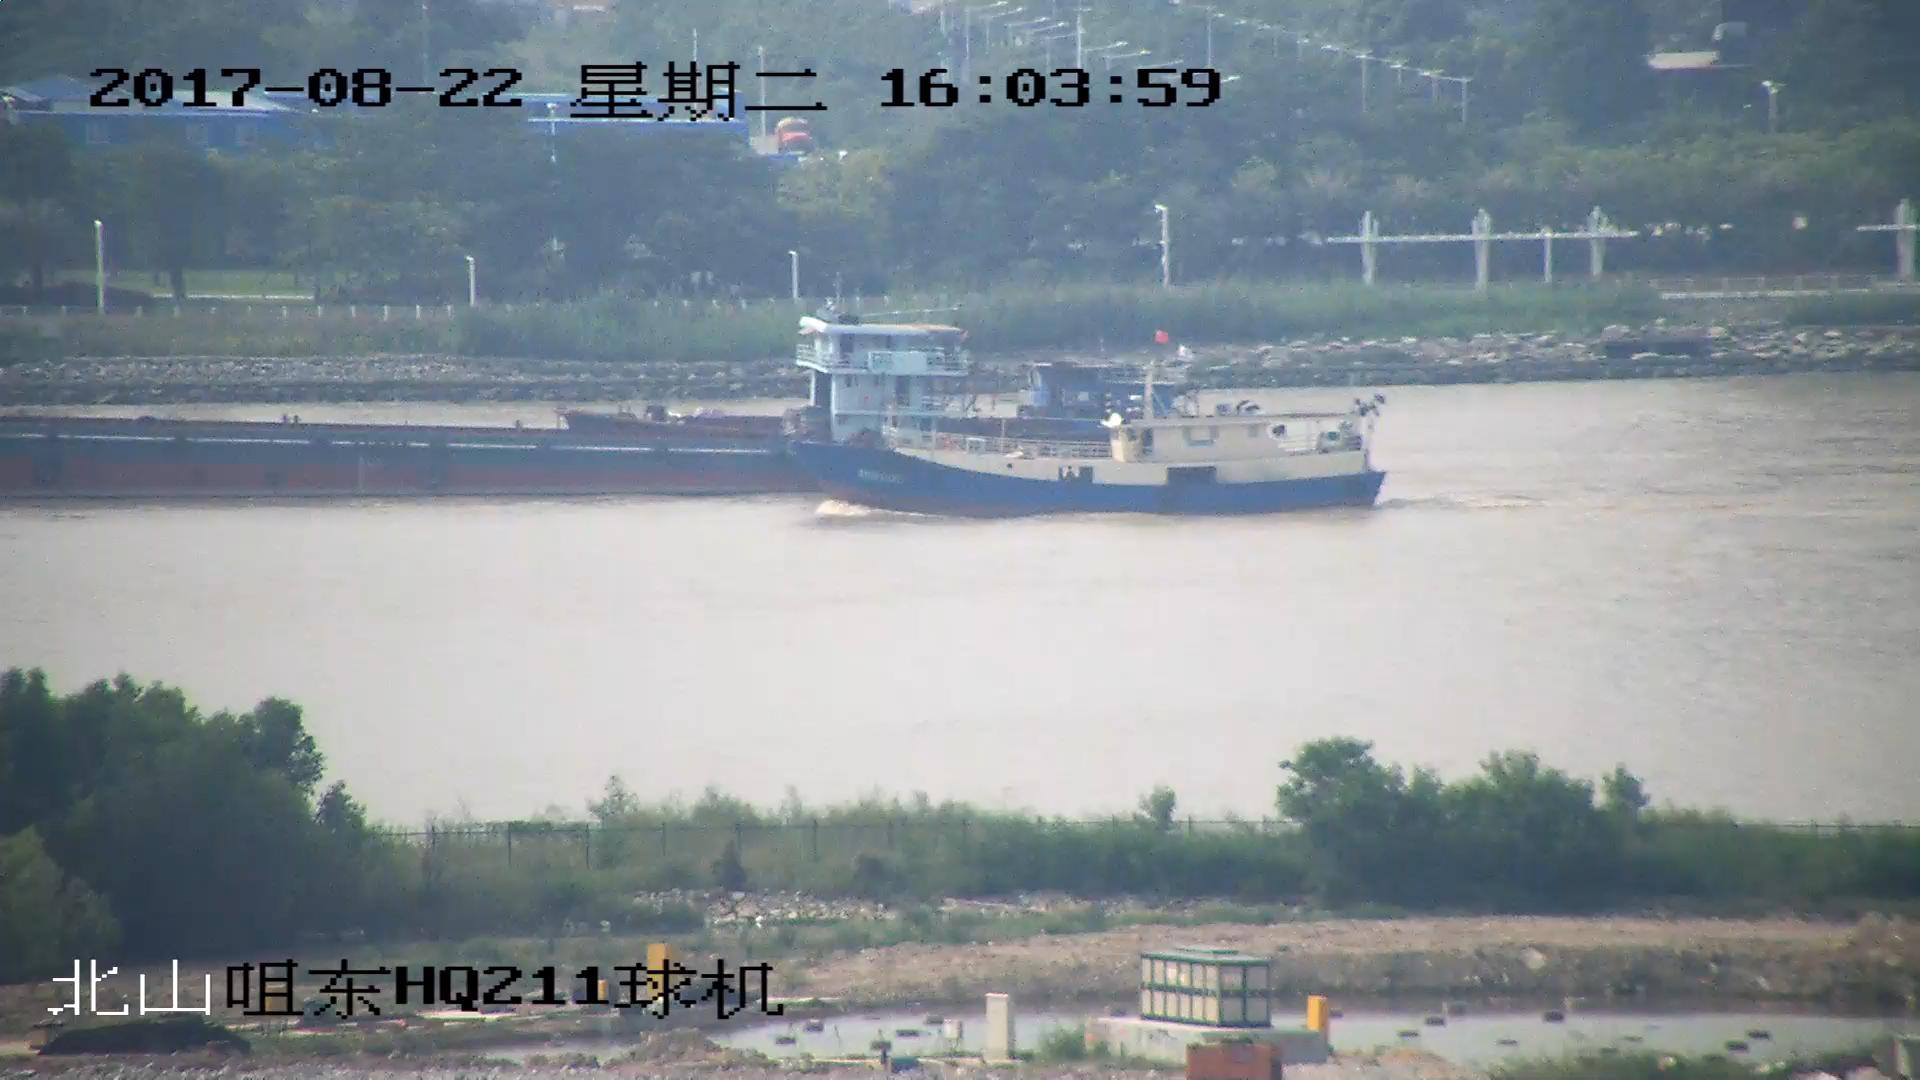Ship: (3, 309, 977, 495), (798, 332, 1393, 521)
